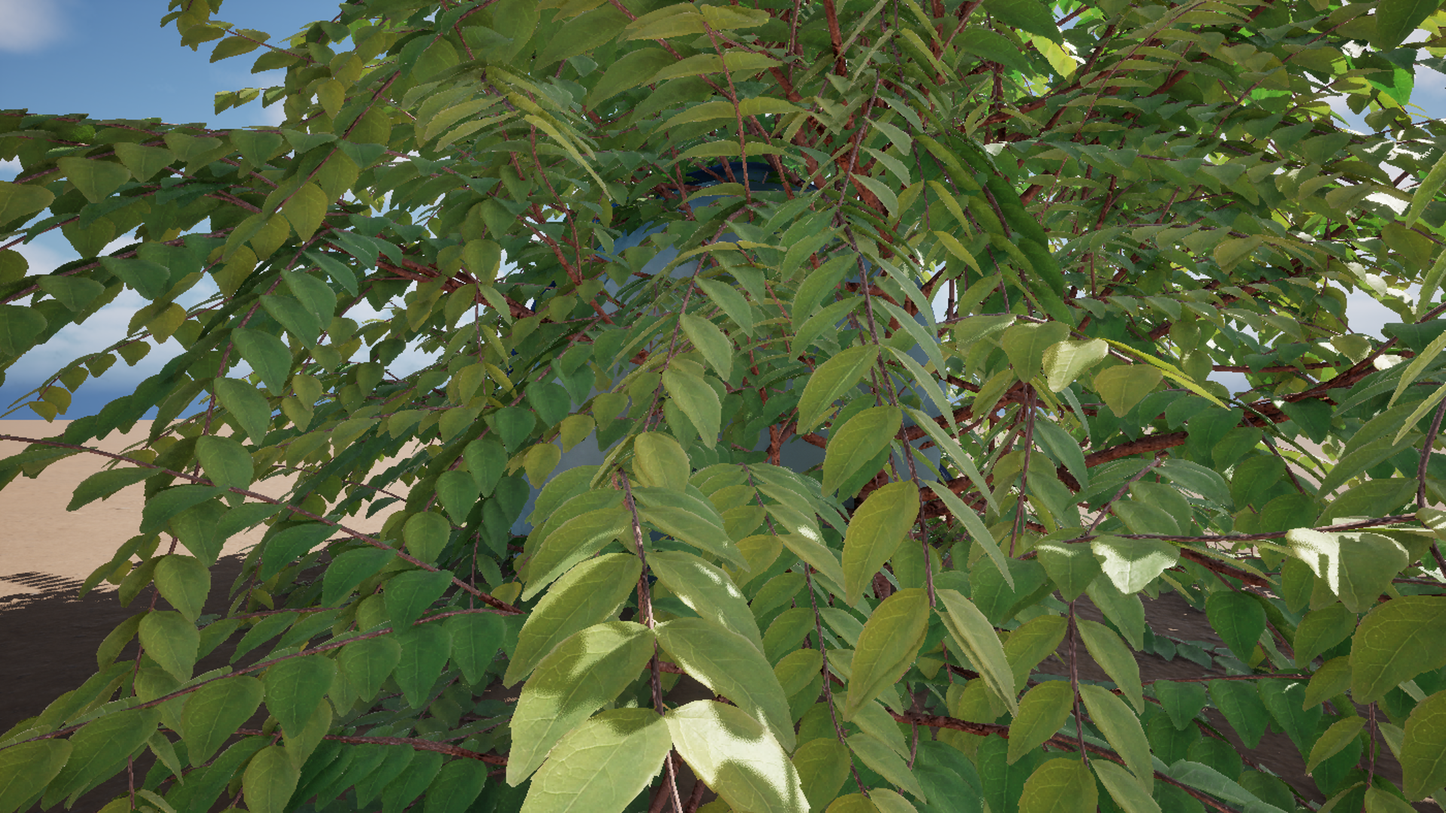Piplup: (496, 0, 1173, 813)
